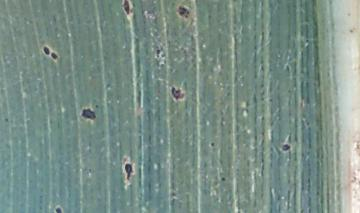tarspot: (80, 106, 97, 120), (170, 86, 184, 101), (124, 162, 133, 180), (177, 5, 190, 17), (121, 1, 130, 17), (50, 51, 59, 61), (43, 45, 50, 56), (281, 144, 291, 151), (156, 48, 161, 58), (55, 207, 63, 213), (3, 117, 10, 122), (219, 177, 227, 181), (211, 141, 215, 147)
